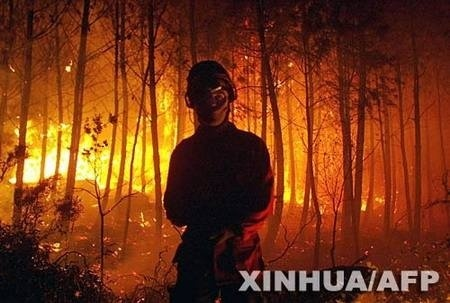fire: (9, 116, 155, 190)
